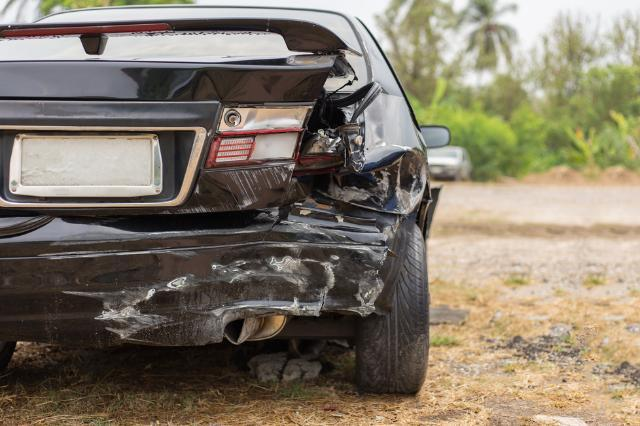Bumper: (37, 204, 399, 349)
Fender: (350, 80, 432, 214)
Light: (215, 105, 344, 170)
